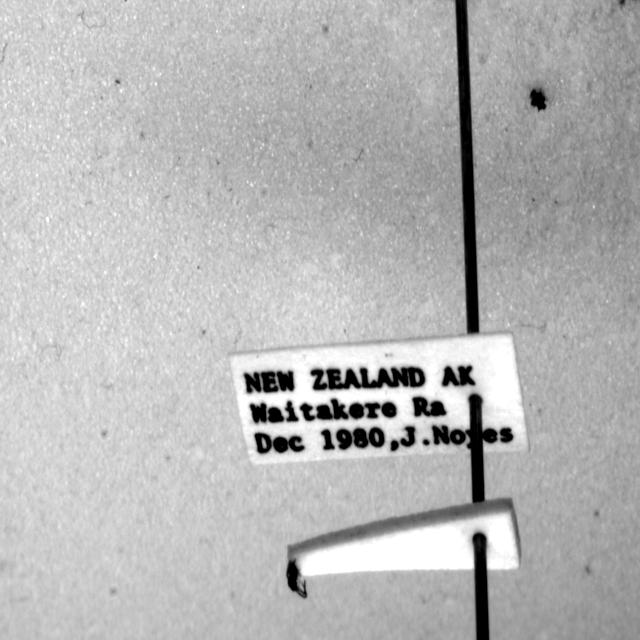typed_label: (230, 334, 529, 463)
